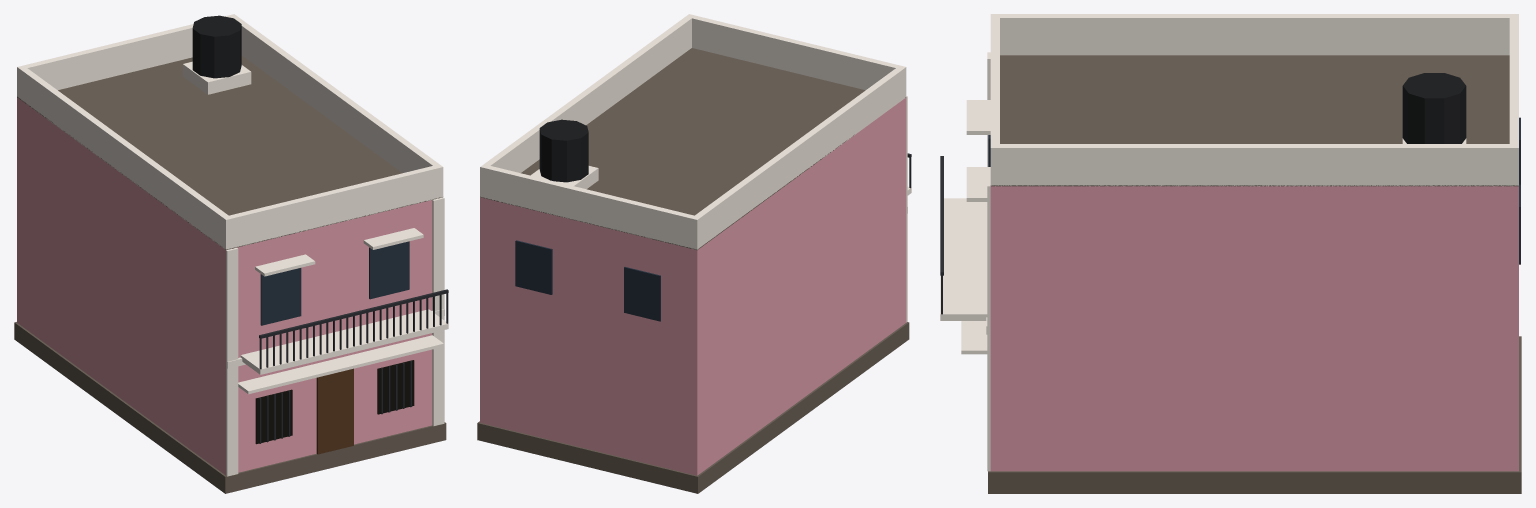
File: bld_ot_house_02.glb
The picture shows the model from 3 angles, left to right: view 1: azimuth 30°, elevation 25°; view 2: azimuth 150°, elevation 25°; view 3: azimuth 270°, elevation 25°; orthographic projection. The views are drawn at different scales.
Parts seen in each view (by area): view 1: bld_ot_house_02; view 2: bld_ot_house_02; view 3: bld_ot_house_02.
Part boxes in pixels (x1,y1,x2,y2): bld_ot_house_02: (14,14,448,493); bld_ot_house_02: (477,14,911,493); bld_ot_house_02: (940,14,1521,493).
Size of what is drawn, in the model's own units: 6.1 by 7.85 by 11.
